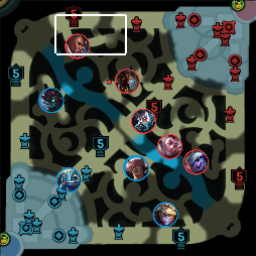ezreal: (151, 200, 179, 228)
fiddlesticks: (114, 68, 141, 95)
fizz: (55, 166, 82, 193)
lucian: (64, 34, 91, 60)
maokai: (37, 87, 64, 113)
rakan: (156, 133, 183, 159)
sett: (123, 154, 150, 181)
tristana: (182, 150, 210, 175)
zilean: (130, 109, 156, 133)
